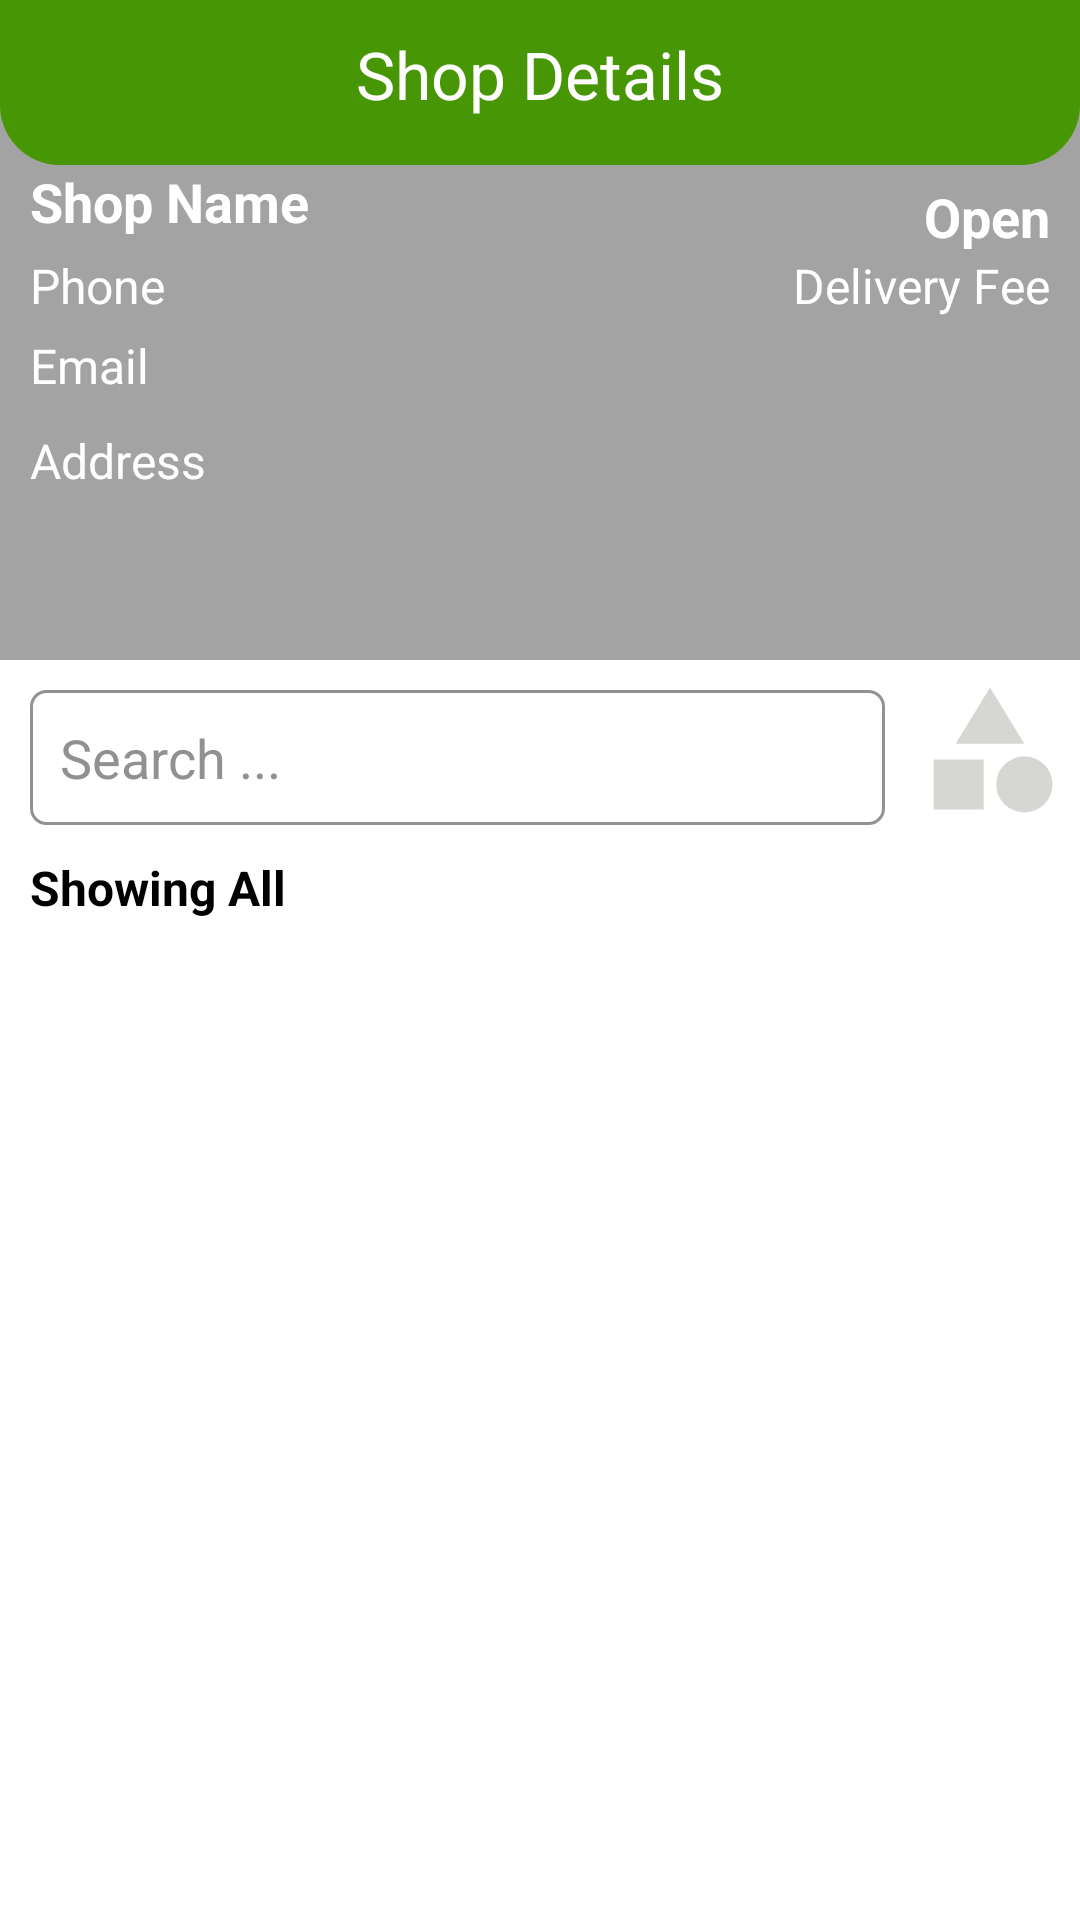

Where icons sit on this 1080 × 1920 app screen, as (x1, y1, x2, y2):
category: (934, 688, 1052, 812)
